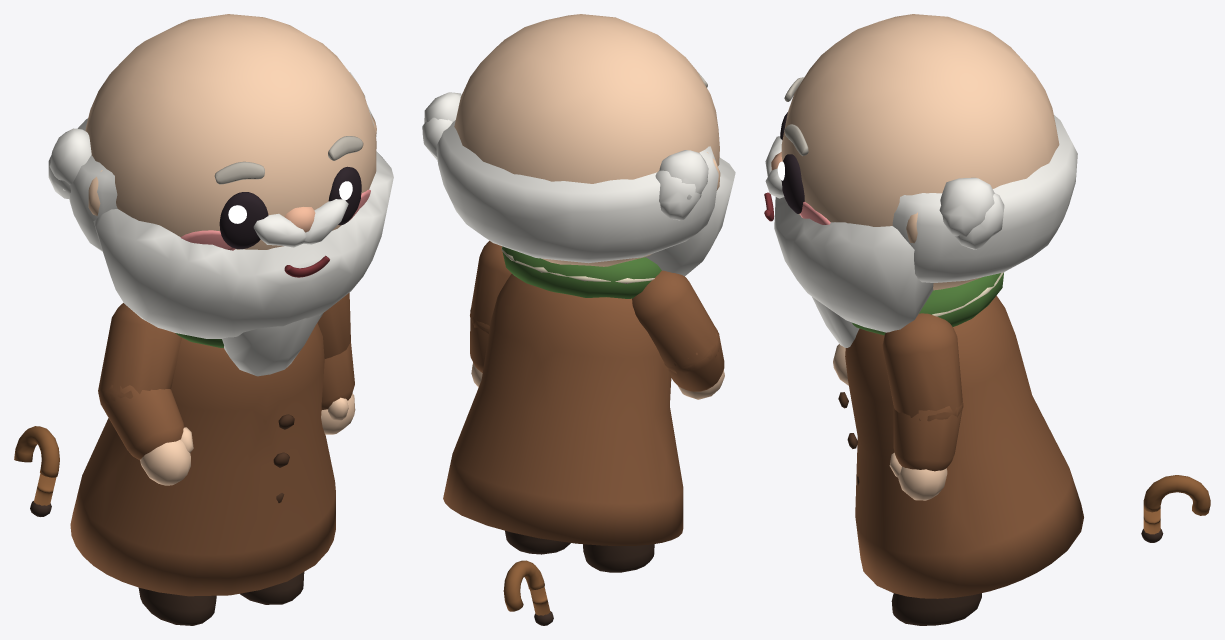
The model's file is npc_grandpa.glb.
The picture shows the model from 3 angles, left to right: view 1: azimuth 30°, elevation 25°; view 2: azimuth 150°, elevation 25°; view 3: azimuth 270°, elevation 25°; orthographic projection. The views are drawn at different scales.
Parts seen in each view (by area): view 1: head_S_body, spine_S_body, uarm_R, farm_R, head_S_eye_dot, knee_R_S_body, hand_R_S_body, farm_L, cane_crook, uarm_L, head_S_brow_neutral, knee_L_S_body (+2 smaller); view 2: head_S_body, spine_S_body, uarm_R, chest_S_body, uarm_L, knee_R_S_body, farm_R, cane_crook, knee_L_S_body, farm_L; view 3: head_S_body, spine_S_body, uarm_L, farm_L, chest_S_body, knee_L_S_body, cane_crook, hand_L_S_body, head_S_eye_dot, head_S_brow_neutral.
Part boxes in pixels (x1,y1,x2,y2): head_S_body: (48,14,393,376); spine_S_body: (70,323,335,596); uarm_R: (98,303,181,405); farm_R: (98,385,184,460); head_S_eye_dot: (219,166,361,249); knee_R_S_body: (138,588,216,625); hand_R_S_body: (140,427,193,485); farm_L: (321,341,354,409); cane_crook: (14,426,59,477); uarm_L: (317,293,350,358); head_S_brow_neutral: (214,136,363,184); knee_L_S_body: (240,572,304,604); head_S_body: (422,14,735,276); spine_S_body: (443,274,683,546); uarm_R: (632,270,720,373); chest_S_body: (501,246,661,298); uarm_L: (470,241,511,333); knee_R_S_body: (583,544,654,572); farm_R: (664,327,724,391); cane_crook: (503,560,544,611); knee_L_S_body: (505,530,570,554); farm_L: (470,308,489,372); head_S_body: (765,14,1077,347); spine_S_body: (838,295,1083,598); uarm_L: (882,313,963,421); farm_L: (893,401,963,471); chest_S_body: (852,272,1003,335); knee_L_S_body: (891,593,981,625); cane_crook: (1143,475,1210,515); hand_L_S_body: (889,452,947,500); head_S_eye_dot: (777,112,804,213); head_S_brow_neutral: (784,77,808,155).
Size of what is drawn, in the model's own units: 0.6983 by 1.26 by 0.8941.
